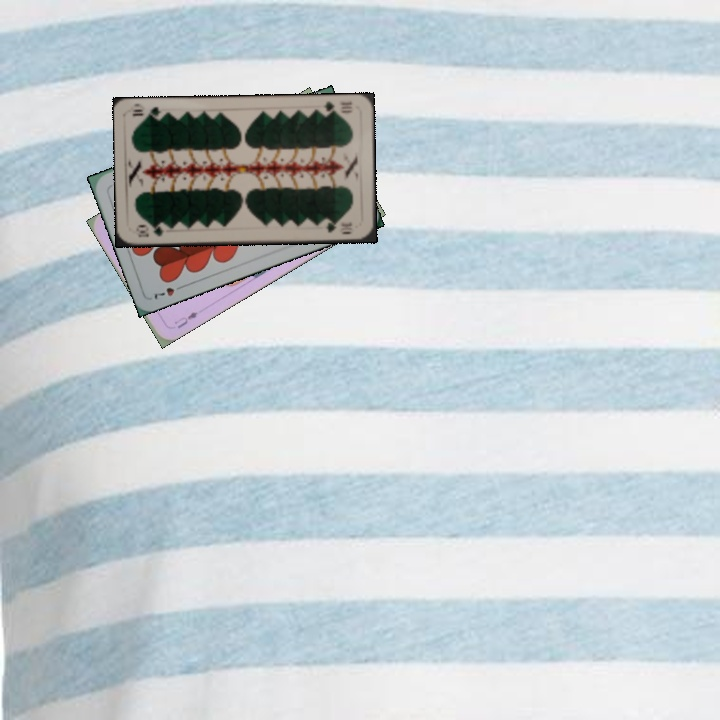EU: (171, 306, 204, 331)
G10: (317, 97, 355, 117), (132, 221, 166, 239)
H7: (150, 281, 188, 301)
